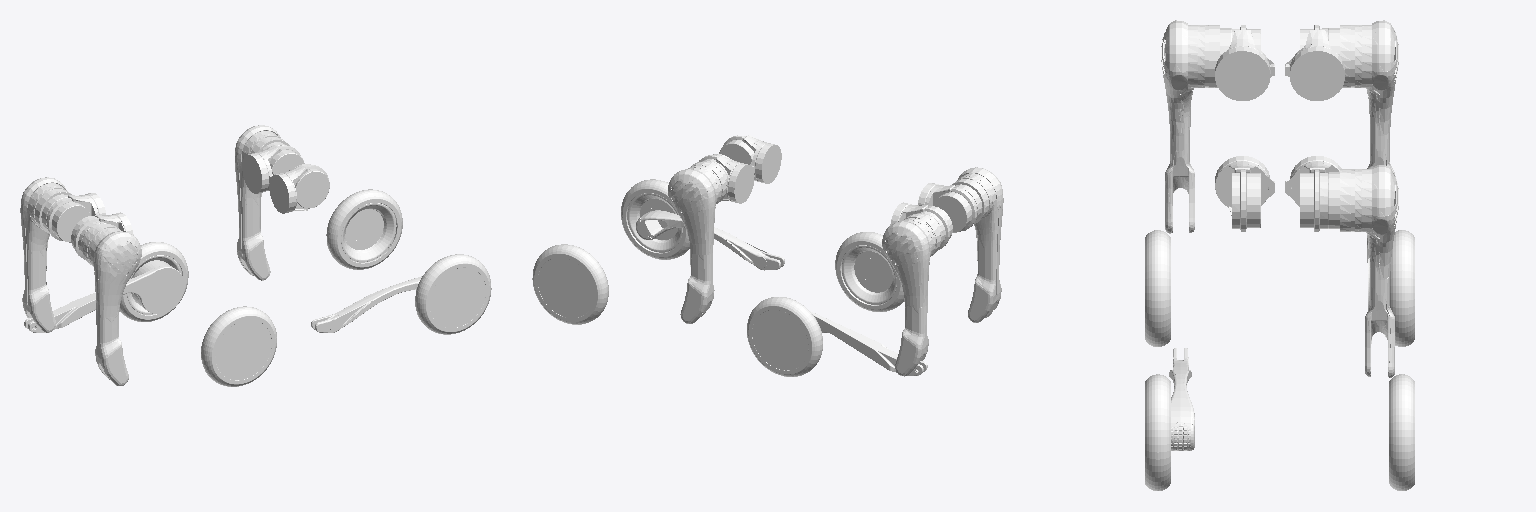
--- What the picture shows (computed from the rendered views, not written in the file) ---
The picture shows the robot from 3 angles, left to right: view 1: azimuth 30°, elevation 25°; view 2: azimuth 150°, elevation 25°; view 3: azimuth 270°, elevation 25°; orthographic projection.
Robot: b2w_description — 26 links, 25 joints (12 revolute, 4 continuous, 9 fixed); root link base_link; default pose: joints at zero except 4 at the middle of their limits (FL_calf_joint = -1.62, FR_calf_joint = -1.62, RL_calf_joint = -1.62, RR_calf_joint = -1.62).
Links seen in each view (by area): view 1: RR_thigh, FR_foot, RR_foot, FL_foot, RL_thigh, FL_thigh, RL_calf, FR_hip, FL_hip, RL_hip, RL_foot, FR_calf (+1 smaller); view 2: FL_thigh, RL_thigh, FL_foot, RL_foot, RR_thigh, RR_foot, FR_foot, FR_calf, FR_hip, RR_hip, RL_calf, FL_hip (+1 smaller); view 3: FL_thigh, RR_thigh, RL_thigh, FR_hip, RR_hip, RL_hip, RR_foot, FL_foot, FR_foot, RL_foot, FL_hip, FR_calf.
Boxes of the visible links, x1=… form: RR_thigh: x1=81, y1=223, x2=141, y2=385; FR_foot: x1=415, y1=254, x2=491, y2=334; RR_foot: x1=201, y1=306, x2=276, y2=386; FL_foot: x1=326, y1=189, x2=402, y2=269; RL_thigh: x1=20, y1=177, x2=71, y2=332; FL_thigh: x1=235, y1=125, x2=289, y2=280; RL_calf: x1=24, y1=260, x2=184, y2=332; FR_hip: x1=269, y1=164, x2=329, y2=213; FL_hip: x1=242, y1=145, x2=304, y2=193; RL_hip: x1=46, y1=193, x2=105, y2=242; RL_foot: x1=120, y1=242, x2=188, y2=321; FR_calf: x1=311, y1=276, x2=421, y2=332; FL_thigh: x1=668, y1=161, x2=727, y2=323; RL_thigh: x1=882, y1=213, x2=942, y2=376; FL_foot: x1=532, y1=244, x2=608, y2=324; RL_foot: x1=747, y1=297, x2=822, y2=376; RR_thigh: x1=952, y1=167, x2=1003, y2=322; RR_foot: x1=835, y1=232, x2=903, y2=311; FR_foot: x1=621, y1=179, x2=689, y2=259; FR_calf: x1=636, y1=210, x2=784, y2=270; FR_hip: x1=719, y1=135, x2=781, y2=183; RR_hip: x1=918, y1=183, x2=977, y2=232; RL_calf: x1=810, y1=311, x2=927, y2=375; FL_hip: x1=699, y1=154, x2=754, y2=203; FL_thigh: x1=1328, y1=165, x2=1398, y2=377; RR_thigh: x1=1161, y1=20, x2=1231, y2=233; RL_thigh: x1=1328, y1=20, x2=1398, y2=173; FR_hip: x1=1215, y1=156, x2=1274, y2=231; RR_hip: x1=1215, y1=25, x2=1274, y2=100; RL_hip: x1=1285, y1=25, x2=1344, y2=100; RR_foot: x1=1145, y1=230, x2=1170, y2=346; FL_foot: x1=1389, y1=374, x2=1414, y2=490; FR_foot: x1=1145, y1=374, x2=1170, y2=490; RL_foot: x1=1390, y1=230, x2=1414, y2=346; FL_hip: x1=1285, y1=156, x2=1341, y2=231; FR_calf: x1=1169, y1=348, x2=1194, y2=450.
Size in the robot's own frame: 1.19 by 0.5201 by 0.5124 metres.
Meshes: 17 distinct files referenced, 13 mesh visuals loaded (13 Collada DAE); not drawn: 4 (reference not matched to a file when rendering).

URDF robot description (b2w_description):
<?xml version="1.0" encoding="utf-8"?>
<!-- This URDF was automatically created by SolidWorks to URDF Exporter! Originally created by Stephen Brawner ([email redacted]) 
     Commit Version: 1.6.0-4-g7f85cfe  Build Version: 1.6.7995.38578
     For more information, please see http://wiki.ros.org/sw_urdf_exporter -->
<robot
  name="b2w_description">
  <link
    name="base_link">
    <inertial>
      <origin
        xyz="0.000458 0.005261 0.000665"
        rpy="0 0 0" />
      <mass
        value="35.606" />
      <inertia
        ixx="0.27466"
        ixy="-0.000622"
        ixz="0.00315"
        iyy="1.0618"
        iyz="-0.00139"
        izz="1.1825" />
    </inertial>
    <visual>
      <origin
        xyz="0 0 0"
        rpy="0 0 0" />
      <geometry>
        <mesh
          filename="package://b2w_description/meshes/base_link.dae" />
      </geometry>
      <material
        name="">
        <color
          rgba="1 1 1 1" />
      </material>
    </visual>
    <collision>
      <origin
        xyz="0 0 0"
        rpy="0 0 0" />
        <geometry>
          <box size="0.5 0.28 0.15" />
        </geometry>
    </collision>
  </link>
  <link
    name="lidar_link">
    <inertial>
      <origin
        xyz="0.34218 0 0.17851"
        rpy="0 0 0" />
      <mass
        value="4.19E-15" />
      <inertia
        ixx="1.68E-27"
        ixy="-3.2E-45"
        ixz="7.68E-44"
        iyy="1.68E-27"
        iyz="-9.26E-47"
        izz="1.68E-27" />
    </inertial>
    <collision>
      <origin
        xyz="0 0 -0.02"
        rpy="0 0 0" />
      <geometry>
        <cylinder length="0.16" radius="0.076" />
        <!-- <mesh
          filename="package://b2_description/meshes/lidar_link.STL" /> -->
      </geometry>
    </collision>
  </link>
  <joint
    name="joint_lidar"
    type="fixed">
    <origin
      xyz="0.34218 0 0.17851"
      rpy="0 0 0" />
    <parent
      link="base_link" />
    <child
      link="lidar_link" />
    <axis
      xyz="0 0 0" />
  </joint>
  <link
    name="f_dc_link">
    <inertial>
      <origin
        xyz="3.47E-18 0 5.55E-17"
        rpy="0 0 0" />
      <mass
        value="4.19E-15" />
      <inertia
        ixx="1.68E-27"
        ixy="-9.81E-45"
        ixz="-2.54E-44"
        iyy="1.68E-27"
        iyz="0"
        izz="1.68E-27" />
    </inertial>
  </link>
  <joint
    name="joint_f_dc"
    type="fixed">
    <origin
      xyz="0.42161 0.025 0.061851"
      rpy="-2.3562 0 -1.5708" />
    <parent
      link="base_link" />
    <child
      link="f_dc_link" />
    <axis
      xyz="0 0 0" />
  </joint>
  <link
    name="r_dc_link">
    <inertial>
      <origin
        xyz="-7.46E-16 -3.33E-16 -1.11E-15"
        rpy="0 0 0" />
      <mass
        value="4.19E-15" />
      <inertia
        ixx="1.68E-27"
        ixy="-4.31E-44"
        ixz="2.48E-45"
        iyy="1.68E-27"
        iyz="0"
        izz="1.68E-27" />
    </inertial>
  </link>
  <joint
    name="joint_r_dc"
    type="fixed">
    <origin
      xyz="-0.42244 -0.025 0.038026"
      rpy="-2.3562 0 1.5708" />
    <parent
      link="base_link" />
    <child
      link="r_dc_link" />
    <axis
      xyz="0 0 0" />
  </joint>
  <link
    name="imu_link">
    <inertial>
      <origin
        xyz="-2.02E-17 1.73E-17 -1.39E-17"
        rpy="0 0 0" />
      <mass
        value="4.19E-15" />
      <inertia
        ixx="1.68E-27"
        ixy="1.84E-44"
        ixz="-7.35E-44"
        iyy="1.68E-27"
        iyz="-3.67E-44"
        izz="1.68E-27" />
    </inertial>
  </link>
  <joint
    name="joint_imu"
    type="fixed">
    <origin
      xyz="0 -0.02341 0.04927"
      rpy="0 0 0" />
    <parent
      link="base_link" />
    <child
      link="imu_link" />
    <axis
      xyz="0 0 0" />
  </joint>
  <link
    name="head_Link">
    <inertial>
      <origin
        xyz="0.33989 -0.000168 0.12029"
        rpy="0 0 0" />
      <mass
        value="3.366" />
      <inertia
        ixx="0.026455"
        ixy="3.15E-05"
        ixz="0.00166"
        iyy="0.029221"
        iyz="-3.27E-05"
        izz="0.010918" />
    </inertial>
    <collision>
      <origin
        xyz="0.41 0 0.005"
        rpy="0 0 0" />
      <geometry>
        <box size="0.04 0.12 0.14" />
      </geometry>
    </collision>
  </link>
  <joint
    name="joint_head"
    type="fixed">
    <origin
      xyz="0 0 0"
      rpy="0 0 0" />
    <parent
      link="base_link" />
    <child
      link="head_Link" />
    <axis
      xyz="0 0 0" />
  </joint>
  <link
    name="tail_link">
    <inertial>
      <origin
        xyz="-0.37448 0.000488 0.006495"
        rpy="0 0 0" />
      <mass
        value="0.777" />
      <inertia
        ixx="0.0028118"
        ixy="1.95E-05"
        ixz="-7.87E-06"
        iyy="0.0047506"
        iyz="-1.57E-05"
        izz="0.0029154" />
    </inertial>
    <collision>
      <origin
        xyz="-0.405 0 0.005"
        rpy="0 0 0" />
      <geometry>
        <box size="0.025 0.12 0.14" />
      </geometry>
    </collision>
  </link>
  <joint
    name="joint_tail"
    type="fixed">
    <origin
      xyz="0 0 0"
      rpy="0 0 0" />
    <parent
      link="base_link" />
    <child
      link="tail_link" />
    <axis
      xyz="0 0 0" />
  </joint>
  <link
    name="FL_hip">
    <inertial>
      <origin
        xyz="-0.009305 -0.010228 0.000264"
        rpy="0 0 0" />
      <mass
        value="2.256" />
      <inertia
        ixx="0.0026431"
        ixy="0.00019234"
        ixz="-6.76E-06"
        iyy="0.0046728"
        iyz="-7.16E-06"
        izz="0.0034208" />
    </inertial>
    <visual>
      <origin
        xyz="0 0 0"
        rpy="0 0 0" />
      <geometry>
        <mesh
          filename="package://b2w_description/meshes/FL_hip.dae" />
      </geometry>
      <material
        name="">
        <color
          rgba="1 1 1 1" />
      </material>
    </visual>
    <collision>
      <origin
        xyz="0 0.12 0"
        rpy="1.5707963267948966 0 0" />
      <geometry>
        <cylinder length="0.05" radius="0.07" />
      </geometry>
    </collision>
  </link>
  <joint
    name="FL_hip_joint"
    type="revolute">
    <origin
      xyz="0.3285 0.072 0"
      rpy="0 0 0" />
    <parent
      link="base_link" />
    <child
      link="FL_hip" />
    <axis
      xyz="1 0 0" />
    <limit
      lower="-0.87"
      upper="0.87"
      effort="200"
      velocity="23" />
  </joint>
  <link
    name="FL_thigh">
    <inertial>
      <origin
        xyz="-0.004346 -0.035797 -0.044921"
        rpy="0 0 0" />
      <mass
        value="3.591" />
      <inertia
        ixx="0.041718"
        ixy="0.00055623"
        ixz="-0.0022768"
        iyy="0.041071"
        iyz="0.005796"
        izz="0.0065677" />
    </inertial>
    <visual>
      <origin
        xyz="0 0 0"
        rpy="0 0 0" />
      <geometry>
        <mesh
          filename="package://b2w_description/meshes/FL_thigh.dae" />
      </geometry>
      <material
        name="">
        <color
          rgba="1 1 1 1" />
      </material>
    </visual>
    <collision>
      <origin
        xyz="-0.025 0 -0.16"
        rpy="0 1.57 0" />
      <geometry>
        <box size="0.32 0.0445 0.054" />
      </geometry>
    </collision>
  </link>
  <joint
    name="FL_thigh_joint"
    type="revolute">
    <origin
      xyz="0 0.11973 0"
      rpy="0 0 0" />
    <parent
      link="FL_hip" />
    <child
      link="FL_thigh" />
    <axis
      xyz="0 1 0" />
    <limit
      lower="-0.94"
      upper="4.69"
      effort="200"
      velocity="23" />
  </joint>
  <link
    name="FL_calf">
    <inertial>
      <origin
        xyz="0.006095 0.012046 -0.29122"
        rpy="0 0 0" />
      <mass
        value="2.053" />
      <inertia
        ixx="0.028133"
        ixy="0.00016307"
        ixz="-0.0010034"
        iyy="0.029251"
        iyz="0.0014765"
        izz="0.0028379" />
    </inertial>
    <visual>
      <origin
        xyz="0 0 0"
        rpy="0 0 0" />
      <geometry>
        <mesh
          filename="package://b2w_description/meshes/FL_calf.dae" />
      </geometry>
      <material
        name="">
        <color
          rgba="1 1 1 1" />
      </material>
    </visual>
    <collision>
      <origin
        xyz="0 0 0"
        rpy="0 0 0" />
      <geometry>
        <mesh
          filename="package://b2w_description/meshes/FL_calf.dae" />
      </geometry>
    </collision>
  </link>
  <joint
    name="FL_calf_joint"
    type="revolute">
    <origin
      xyz="0 -8.8203E-05 -0.35"
      rpy="0 0 0" />
    <parent
      link="FL_thigh" />
    <child
      link="FL_calf" />
    <axis
      xyz="0 1 0" />
    <limit
      lower="-2.82"
      upper="-0.43"
      effort="320"
      velocity="14" />
  </joint>
  <link
    name="FL_foot">
    <inertial>
      <origin
        xyz="0 0.051576 0"
        rpy="0 0 0" />
      <mass
        value="0.918" />
      <inertia
        ixx="0.0032475"
        ixy="0"
        ixz="0"
        iyy="0.0061101"
        iyz="0"
        izz="0.003235" />
    </inertial>
    <visual>
      <origin
        xyz="0 0 0"
        rpy="0 0 0" />
      <geometry>
        <mesh
          filename="package://b2w_description/meshes/FL_foot.dae" />
      </geometry>
      <material
        name="">
        <color
          rgba="1 1 1 1" />
      </material>
    </visual>
    <collision>
      <origin
        xyz="0 0 0"
        rpy="0 0 0" />
      <geometry>
        <mesh
          filename="package://b2w_description/meshes/FL_foot.dae" />
      </geometry>
    </collision>
  </link>
  <joint
    name="FL_foot_joint"
    type="continuous">
    <origin
      xyz="0 0 -0.35"
      rpy="0 0 0" />
    <parent
      link="FL_calf" />
    <child
      link="FL_foot" />
    <axis
      xyz="0 1 0" />
    <limit
      effort="20"
      velocity="50" />
  </joint>
  <link
    name="FR_hip">
    <inertial>
      <origin
        xyz="-0.009305 0.010228 0.000264"
        rpy="0 0 0" />
      <mass
        value="2.256" />
      <inertia
        ixx="0.0026431"
        ixy="-0.00019234"
        ixz="-6.76E-06"
        iyy="0.0046728"
        iyz="7.16E-06"
        izz="0.0034208" />
    </inertial>
    <visual>
      <origin
        xyz="0 0 0"
        rpy="0 0 0" />
      <geometry>
        <mesh
          filename="package://b2w_description/meshes/FR_hip.dae" />
      </geometry>
      <material
        name="">
        <color
          rgba="1 1 1 1" />
      </material>
    </visual>
    <collision>
      <origin
        xyz="0 -0.12 0"
        rpy="1.5707963267948966 0 0" />
      <geometry>
        <cylinder length="0.05" radius="0.07" />
      </geometry>
    </collision>
  </link>
  <joint
    name="FR_hip_joint"
    type="revolute">
    <origin
      xyz="0.3285 -0.072 0"
      rpy="0 0 0" />
    <parent
      link="base_link" />
    <child
      link="FR_hip" />
    <axis
      xyz="1 0 0" />
    <limit
      lower="-0.87"
      upper="0.87"
      effort="200"
      velocity="23" />
  </joint>
  <link
    name="FR_thigh">
    <inertial>
      <origin
        xyz="-0.004346 0.035797 -0.044921"
        rpy="0 0 0" />
      <mass
        value="3.591" />
      <inertia
        ixx="0.041718"
        ixy="-0.00055623"
        ixz="-0.0022768"
        iyy="0.041071"
        iyz="-0.005796"
        izz="0.0065677" />
    </inertial>
    <visual>
      <origin
        xyz="0 0 0"
        rpy="0 0 0" />
      <geometry>
        <mesh
          filename="package://b2w_description/meshes/FR_thigh.dae" />
      </geometry>
      <material
        name="">
        <color
          rgba="1 1 1 1" />
      </material>
    </visual>
    <collision>
      <origin rpy="0 1.57 0" xyz="-0.03 0 -0.2"/>
      <geometry>
        <box size="0.25 0.028 0.04"/>
      </geometry>
    </collision>
  </link>
  <joint
    name="FR_thigh_joint"
    type="revolute">
    <origin
      xyz="0 -0.11973 0"
      rpy="0 0 0" />
    <parent
      link="FR_hip" />
    <child
      link="FR_thigh" />
    <axis
      xyz="0 1 0" />
    <limit
      lower="-0.94"
      upper="4.69"
      effort="200"
      velocity="23" />
  </joint>
  <link
    name="FR_calf">
    <inertial>
      <origin
        xyz="0.006095 -0.012046 -0.29122"
        rpy="0 0 0" />
      <mass
        value="2.053" />
      <inertia
        ixx="0.028133"
        ixy="-0.00016307"
        ixz="-0.0010034"
        iyy="0.029251"
        iyz="-0.0014765"
        izz="0.0028379" />
    </inertial>
    <visual>
      <origin
        xyz="0 0 0"
        rpy="0 0 0" />
      <geometry>
        <mesh
          filename="package://b2w_description/meshes/FR_calf.dae" />
      </geometry>
      <material
        name="">
        <color
          rgba="1 1 1 1" />
      </material>
    </visual>
    <collision>
      <origin
        xyz="0 0 0"
        rpy="0 0 0" />
      <geometry>
        <mesh
          filename="package://b2w_description/meshes/FR_calf.dae" />
      </geometry>
    </collision>
  </link>
  <joint
    name="FR_calf_joint"
    type="revolute">
    <origin
      xyz="0 8.8205E-05 -0.35"
      rpy="0 0 0" />
    <parent
      link="FR_thigh" />
    <child
      link="FR_calf" />
    <axis
      xyz="0 1 0" />
    <limit
      lower="-2.82"
      upper="-0.43"
      effort="320"
      velocity="14" />
  </joint>
  <link
    name="FR_foot">
    <inertial>
      <origin
        xyz="0 -0.051576 0"
        rpy="0 0 0" />
      <mass
        value="0.918" />
      <inertia
        ixx="0.0032475"
        ixy="0"
        ixz="0"
        iyy="0.0061101"
        iyz="0"
        izz="0.003235" />
    </inertial>
    <visual>
      <origin
        xyz="0 0 0"
        rpy="0 0 0" />
      <geometry>
        <mesh
          filename="package://b2w_description/meshes/FR_foot.dae" />
      </geometry>
      <material
        name="">
        <color
          rgba="1 1 1 1" />
      </material>
    </visual>
    <collision>
      <origin
        xyz="0 0 0"
        rpy="0 0 0" />
      <geometry>
        <mesh
          filename="package://b2w_description/meshes/FR_foot.dae" />
      </geometry>
    </collision>
  </link>
  <joint
    name="FR_foot_joint"
    type="continuous">
    <origin
      xyz="0 -0.001 -0.35"
      rpy="0 0 0" />
    <parent
      link="FR_calf" />
    <child
      link="FR_foot" />
    <axis
      xyz="0 1 0" />
    <limit
      effort="20"
      velocity="50" />
  </joint>
  <link
    name="RL_hip">
    <inertial>
      <origin
        xyz="0.009305 -0.010228 0.000264"
        rpy="0 0 0" />
      <mass
        value="2.256" />
      <inertia
        ixx="0.0026431"
        ixy="-0.00019234"
        ixz="6.76E-06"
        iyy="0.0046728"
        iyz="-7.16E-06"
        izz="0.0034208" />
    </inertial>
    <visual>
      <origin
        xyz="0 0 0"
        rpy="0 0 0" />
      <geometry>
        <mesh
          filename="package://b2w_description/meshes/RL_hip.dae" />
      </geometry>
      <material
        name="">
        <color
          rgba="1 1 1 1" />
      </material>
    </visual>
    <collision>
      <origin
        xyz="0 0.12 0"
        rpy="1.5707963267948966 0 0" />
      <geometry>
        <cylinder length="0.05" radius="0.07" />
      </geometry>
    </collision>
  </link>
  <joint
    name="RL_hip_joint"
    type="revolute">
    <origin
      xyz="-0.3285 0.072 0"
      rpy="0 0 0" />
    <parent
      link="base_link" />
    <child
      link="RL_hip" />
    <axis
      xyz="1 0 0" />
    <limit
      lower="-0.87"
      upper="0.87"
      effort="200"
      velocity="23" />
  </joint>
  <link
    name="RL_thigh">
    <inertial>
      <origin
        xyz="-0.004346 -0.035797 -0.044921"
        rpy="0 0 0" />
      <mass
        value="3.591" />
      <inertia
        ixx="0.041718"
        ixy="0.00055623"
        ixz="-0.0022768"
        iyy="0.041071"
        iyz="0.005796"
        izz="0.0065677" />
    </inertial>
    <visual>
      <origin
        xyz="0 0 0"
        rpy="0 0 0" />
      <geometry>
        <mesh
          filename="package://b2w_description/meshes/RL_thigh.dae" />
      </geometry>
      <material
        name="">
        <color
          rgba="1 1 1 1" />
      </material>
    </visual>
    <collision>
      <origin rpy="0 1.57 0" xyz="-0.03 0 -0.2"/>
      <geometry>
        <box size="0.25 0.028 0.04"/>
      </geometry>
    </collision>
  </link>
  <joint
    name="RL_thigh_joint"
    type="revolute">
    <origin
      xyz="0 0.11973 0"
      rpy="0 0 0" />
    <parent
      link="RL_hip" />
    <child
      link="RL_thigh" />
    <axis
      xyz="0 1 0" />
    <limit
      lower="-0.94"
      upper="4.69"
      effort="200"
      velocity="23" />
  </joint>
  <link
    name="RL_calf">
    <inertial>
      <origin
        xyz="0.006095 0.012046 -0.29122"
        rpy="0 0 0" />
      <mass
        value="2.053" />
      <inertia
        ixx="0.028133"
        ixy="0.00016307"
        ixz="-0.0010034"
        iyy="0.029251"
        iyz="0.0014765"
        izz="0.0028379" />
    </inertial>
    <visual>
      <origin
        xyz="0 0 0"
        rpy="0 0 0" />
      <geometry>
        <mesh
          filename="package://b2w_description/meshes/RL_calf.dae" />
      </geometry>
      <material
        name="">
        <color
          rgba="1 1 1 1" />
      </material>
    </visual>
    <collision>
      <origin
        xyz="0 0 0"
        rpy="0 0 0" />
      <geometry>
        <mesh
          filename="package://b2w_description/meshes/RL_calf.dae" />
      </geometry>
    </collision>
  </link>
  <joint
    name="RL_calf_joint"
    type="revolute">
    <origin
      xyz="0 -8.8205E-05 -0.35"
      rpy="0 0 0" />
    <parent
      link="RL_thigh" />
    <child
      link="RL_calf" />
    <axis
      xyz="0 1 0" />
    <limit
      lower="-2.82"
      upper="-0.43"
      effort="320"
      velocity="14" />
  </joint>
  <link
    name="RL_foot">
    <inertial>
      <origin
        xyz="0 0.051576 0"
        rpy="0 0 0" />
      <mass
        value="0.918" />
      <inertia
        ixx="0.0032475"
        ixy="0"
        ixz="0"
        iyy="0.0061101"
        iyz="0"
        izz="0.003235" />
    </inertial>
    <visual>
      <origin
        xyz="0 0 0"
        rpy="0 0 0" />
      <geometry>
        <mesh
          filename="package://b2w_description/meshes/RL_foot.dae" />
      </geometry>
      <material
        name="">
        <color
          rgba="1 1 1 1" />
      </material>
    </visual>
    <collision>
      <origin
        xyz="0 0 0"
        rpy="0 0 0" />
      <geometry>
        <mesh
          filename="package://b2w_description/meshes/RL_foot.dae" />
      </geometry>
    </collision>
  </link>
  <joint
    name="RL_foot_joint"
    type="continuous">
    <origin
      xyz="0 0 -0.35"
      rpy="0 0 0" />
    <parent
      link="RL_calf" />
    <child
      link="RL_foot" />
    <axis
      xyz="0 1 0" />
    <limit
      effort="20"
      velocity="50" />
  </joint>
  <link
    name="RR_hip">
    <inertial>
      <origin
        xyz="0.009305 -0.010228 0.000264"
        rpy="0 0 0" />
      <mass
        value="2.256" />
      <inertia
        ixx="0.0026431"
        ixy="0.00019234"
        ixz="6.76E-06"
        iyy="0.0046728"
        iyz="7.16E-06"
        izz="0.0034208" />
    </inertial>
    <visual>
      <origin
        xyz="0 0 0"
        rpy="0 0 0" />
      <geometry>
        <mesh
          filename="package://b2w_description/meshes/RR_hip.dae" />
      </geometry>
      <material
        name="">
        <color
          rgba="1 1 1 1" />
      </material>
    </visual>
    <collision>
      <origin
        xyz="0 -0.12 0"
        rpy="1.5707963267948966 0 0" />
      <geometry>
        <cylinder length="0.05" radius="0.07" />
      </geometry>
    </collision>
  </link>
  <joint
    name="RR_hip_joint"
    type="revolute">
    <origin
      xyz="-0.3285 -0.072 0"
      rpy="0 0 0" />
    <parent
      link="base_link" />
    <child
      link="RR_hip" />
    <axis
      xyz="1 0 0" />
    <limit
      lower="-0.87"
      upper="0.87"
      effort="200"
      velocity="23" />
  </joint>
  <link
    name="RR_thigh">
    <inertial>
      <origin
        xyz="-0.004346 0.035797 -0.044921"
        rpy="0 0 0" />
      <mass
        value="3.591" />
      <inertia
        ixx="0.041718"
        ixy="-0.00055623"
        ixz="-0.0022768"
        iyy="0.041071"
        iyz="-0.005796"
        izz="0.0065677" />
    </inertial>
    <visual>
      <origin
        xyz="0 0 0"
        rpy="0 0 0" />
      <geometry>
        <mesh
          filename="package://b2w_description/meshes/RR_thigh.dae" />
      </geometry>
      <material
        name="">
        <color
          rgba="1 1 1 1" />
      </material>
    </visual>
    <collision>
      <origin rpy="0 1.57 0" xyz="-0.03 0 -0.2"/>
      <geometry>
        <box size="0.25 0.028 0.04"/>
      </geometry>
    </collision>
  </link>
  <joint
    name="RR_thigh_joint"
    type="revolute">
    <origin
      xyz="0 -0.11973 0"
      rpy="0 0 0" />
    <parent
      link="RR_hip" />
    <child
      link="RR_thigh" />
    <axis
      xyz="0 1 0" />
    <limit
      lower="-0.94"
      upper="4.69"
      effort="200"
      velocity="23" />
  </joint>
  <link
    name="RR_calf">
    <inertial>
      <origin
        xyz="0.006095 -0.012046 -0.29122"
        rpy="0 0 0" />
      <mass
        value="2.053" />
      <inertia
        ixx="0.028133"
        ixy="-0.00016307"
        ixz="-0.0010034"
        iyy="0.029251"
        iyz="-0.0014765"
        izz="0.0028379" />
    </inertial>
    <visual>
      <origin
        xyz="0 0 0"
        rpy="0 0 0" />
      <geometry>
        <mesh
          filename="package://b2w_description/meshes/RR_calf.dae" />
      </geometry>
      <material
        name="">
        <color
          rgba="1 1 1 1" />
      </material>
    </visual>
    <collision>
      <origin
        xyz="0 0 0"
        rpy="0 0 0" />
      <geometry>
        <mesh
          filename="package://b2w_description/meshes/RR_calf.dae" />
      </geometry>
    </collision>
  </link>
  <joint
    name="RR_calf_joint"
    type="revolute">
    <origin
      xyz="0 8.8205E-05 -0.35"
      rpy="0 0 0" />
    <parent
      link="RR_thigh" />
    <child
      link="RR_calf" />
    <axis
      xyz="0 1 0" />
    <limit
      lower="-2.82"
      upper="-0.43"
      effort="320"
      velocity="14" />
  </joint>
  <link
    name="RR_foot">
    <inertial>
      <origin
        xyz="0 -0.051576 0"
        rpy="0 0 0" />
      <mass
        value="0.918" />
      <inertia
        ixx="0.0032475"
        ixy="0"
        ixz="0"
        iyy="0.0061101"
        iyz="0"
        izz="0.003235" />
    </inertial>
    <visual>
      <origin
        xyz="0 0 0"
        rpy="0 0 0" />
      <geometry>
        <mesh
          filename="package://b2w_description/meshes/RR_foot.dae" />
      </geometry>
      <material
        name="">
        <color
          rgba="1 1 1 1" />
      </material>
    </visual>
    <collision>
      <origin
        xyz="0 0 0"
        rpy="0 0 0" />
      <geometry>
        <mesh
          filename="package://b2w_description/meshes/RR_foot.dae" />
      </geometry>
    </collision>
  </link>
  <joint
    name="RR_foot_joint"
    type="continuous">
    <origin
      xyz="0 -0.001 -0.35"
      rpy="0 0 0" />
    <parent
      link="RR_calf" />
    <child
      link="RR_foot" />
    <axis
      xyz="0 1 0" />
    <limit
      effort="20"
      velocity="50" />
  </joint>
  <link
    name="f_oc_link">
    <inertial>
      <origin
        xyz="-3.39E-15 1.46E-16 -6.11E-16"
        rpy="0 0 0" />
      <mass
        value="4.19E-15" />
      <inertia
        ixx="1.68E-27"
        ixy="-3.89E-44"
        ixz="5.04E-44"
        iyy="1.68E-27"
        iyz="2.81E-45"
        izz="1.68E-27" />
    </inertial>
  </link>
  <joint
    name="f_oc_link"
    type="fixed">
    <origin
      xyz="0.3993 0 -0.01576"
      rpy="-1.5708 0 -1.5708" />
    <parent
      link="base_link" />
    <child
      link="f_oc_link" />
    <axis
      xyz="0 0 0" />
  </joint>
  <link
    name="logo_link">
    <inertial>
      <origin
        xyz="0 -2.3E-23 0"
        rpy="0 0 0" />
      <mass
        value="4.19E-15" />
      <inertia
        ixx="1.68E-27"
        ixy="0"
        ixz="0"
        iyy="1.68E-27"
        iyz="0"
        izz="1.68E-27" />
    </inertial>
  </link>
  <joint
    name="joint_logo"
    type="fixed">
    <origin
      xyz="0 0 0"
      rpy="0 0 0" />
    <parent
      link="base_link" />
    <child
      link="logo_link" />
    <axis
      xyz="0 0 0" />
  </joint>
  <link
    name="r_oc_ink">
    <inertial>
      <origin
        xyz="-0.39143 1.52E-07 -0.011961"
        rpy="0 0 0" />
      <mass
        value="4.19E-12" />
      <inertia
        ixx="1.68E-22"
        ixy="9.03E-39"
        ixz="0"
        iyy="1.68E-22"
        iyz="-1.2E-38"
        izz="1.68E-22" />
    </inertial>
  </link>
  <joint
    name="joint_r_oc"
    type="fixed">
    <origin
      xyz="-0.39143 0 -0.026131"
      rpy="-1.5708 0 1.5708" />
    <parent
      link="base_link" />
    <child
      link="r_oc_ink" />
    <axis
      xyz="0 0 0" />
  </joint>
</robot>
